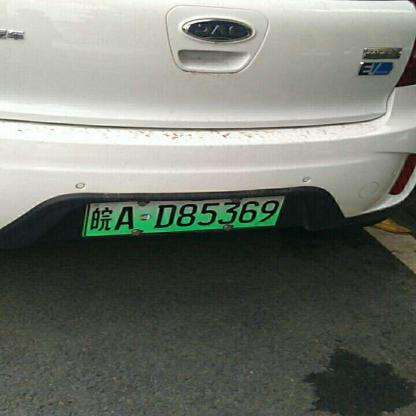lp: (86, 197, 283, 236)
